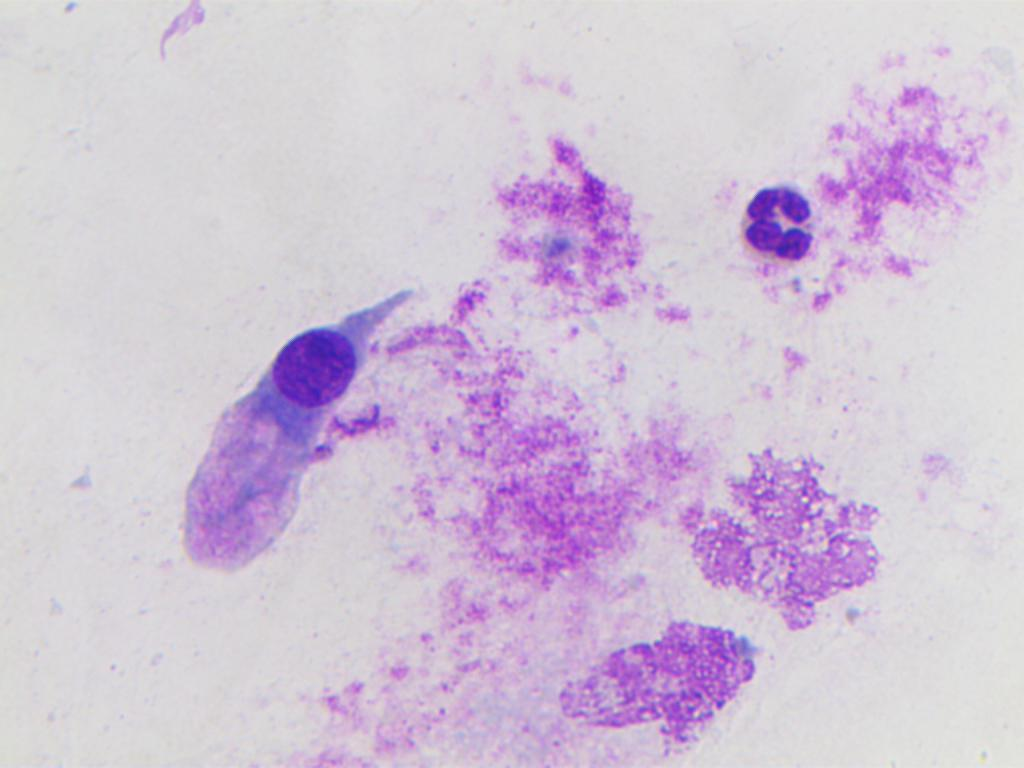artifact: (674, 419, 893, 646), (541, 589, 793, 768), (470, 142, 662, 332)
goblet_cell: (184, 303, 359, 568)
neutrophil: (735, 158, 822, 294)
